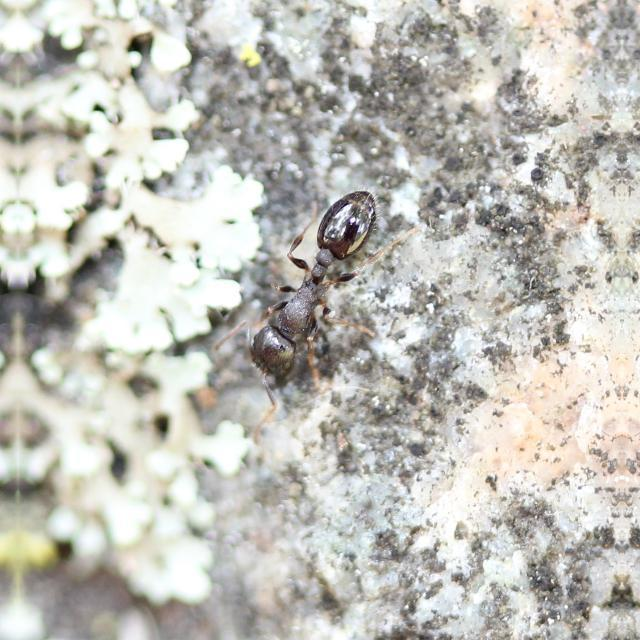Temnothorax: (218, 162, 402, 404)
